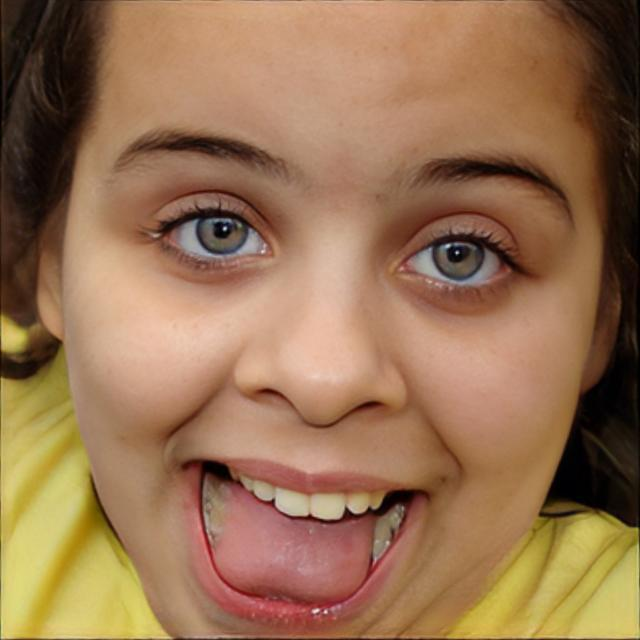surprise: (63, 0, 609, 640)
